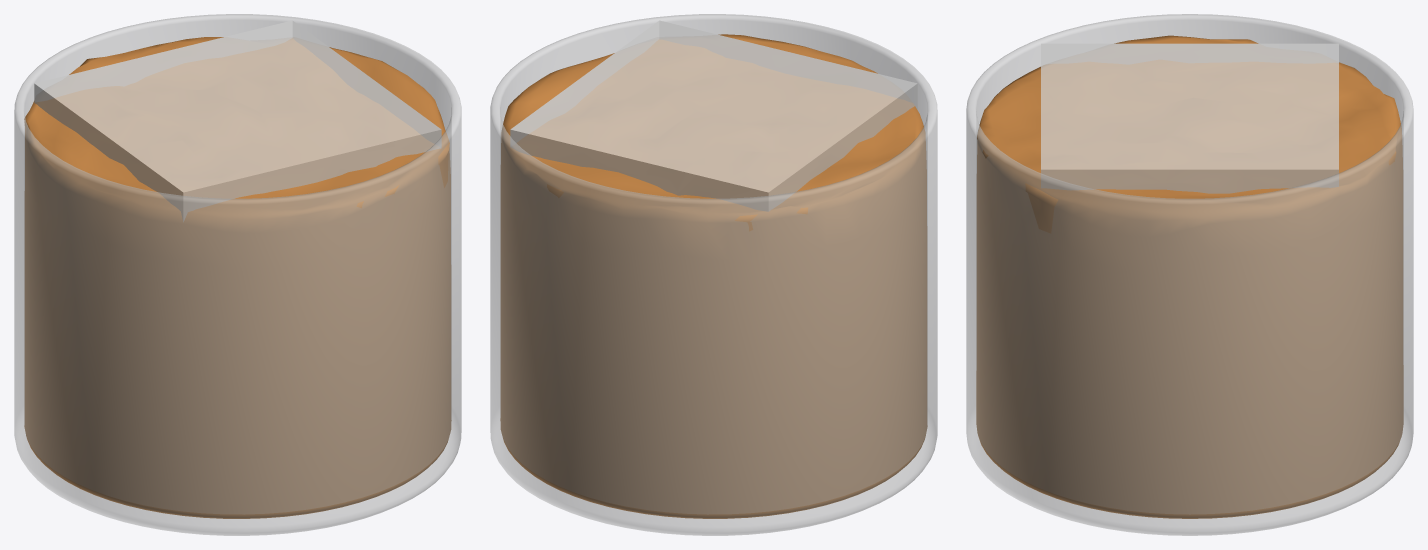
Rendered from old-fashioned.glb.
The picture shows the model from 3 angles, left to right: view 1: azimuth 30°, elevation 25°; view 2: azimuth 150°, elevation 25°; view 3: azimuth 270°, elevation 25°; orthographic projection.
Parts seen in each view (by area): view 1: Liquid_OF, OF, BigCube; view 2: Liquid_OF, OF, BigCube; view 3: Liquid_OF, OF, BigCube.
Boxes of the visible parts, x1,y1,x2,y2 form: Liquid_OF: [24, 37, 451, 518]; OF: [14, 14, 461, 535]; BigCube: [34, 20, 441, 221]; Liquid_OF: [500, 34, 927, 518]; OF: [490, 14, 937, 535]; BigCube: [510, 20, 917, 211]; Liquid_OF: [976, 35, 1403, 518]; OF: [966, 14, 1413, 535]; BigCube: [1041, 43, 1338, 193].
Bounding box in the file's own units: 0.1219 × 0.102 × 0.1219.
